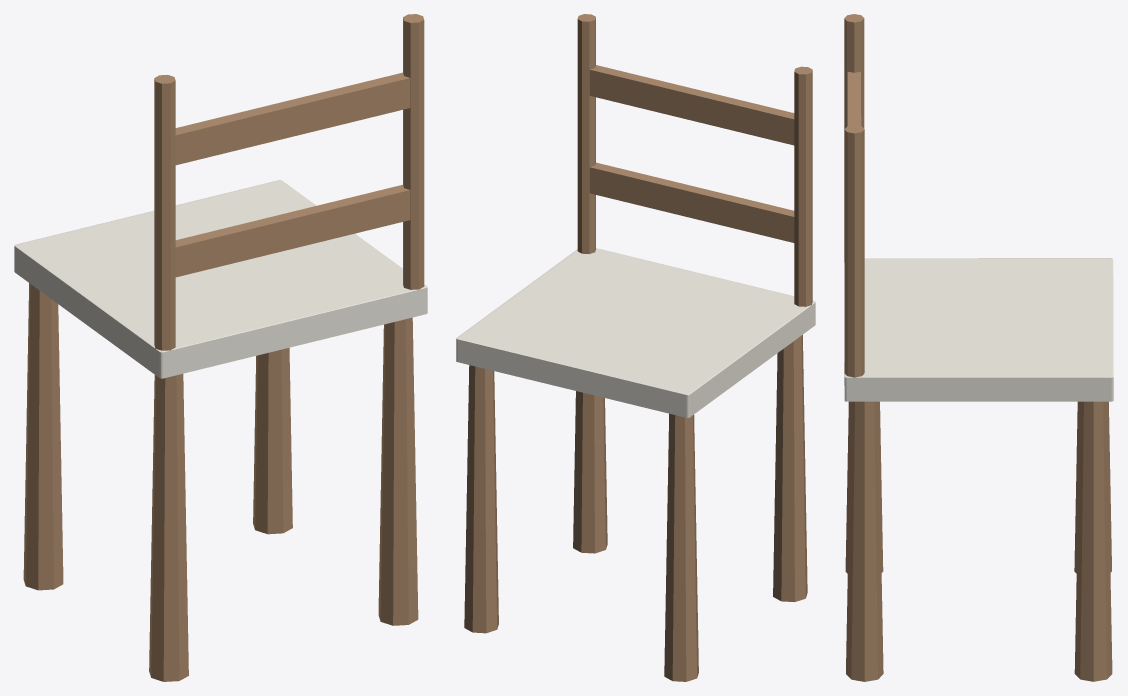
The model's file is DiningChair.fbx.
The picture shows the model from 3 angles, left to right: view 1: azimuth 30°, elevation 25°; view 2: azimuth 150°, elevation 25°; view 3: azimuth 270°, elevation 25°; orthographic projection. The views are drawn at different scales.
Parts seen in each view (by area): view 1: Seat, Leg4.001, Leg3.001, Leg2.001, Slat2, Slat1, Leg1.001, Post2, Post1; view 2: Seat, Leg2.001, Leg1.001, Leg4.001, Slat2, Slat1, Leg3.001, Post2, Post1; view 3: Seat, Leg1.001, Leg3.001, Post1, Post2, Leg4.001, Leg2.001, Slat2.
Part boxes in pixels (x1,y1,x2,y2): Seat: [14, 180, 427, 378]; Leg4.001: [149, 374, 188, 681]; Leg3.001: [378, 317, 418, 625]; Leg2.001: [23, 283, 63, 590]; Slat2: [175, 72, 410, 165]; Slat1: [175, 184, 410, 277]; Leg1.001: [253, 347, 292, 534]; Post2: [154, 75, 175, 350]; Post1: [403, 14, 424, 289]; Seat: [456, 248, 815, 417]; Leg2.001: [664, 413, 698, 681]; Leg1.001: [464, 365, 498, 633]; Leg4.001: [773, 335, 807, 601]; Slat2: [589, 65, 794, 145]; Slat1: [589, 162, 794, 242]; Leg3.001: [573, 391, 607, 553]; Post2: [794, 66, 812, 306]; Post1: [577, 14, 595, 253]; Seat: [844, 258, 1113, 401]; Leg1.001: [1074, 401, 1112, 681]; Leg3.001: [846, 401, 883, 681]; Post1: [844, 125, 864, 377]; Post2: [844, 14, 864, 262]; Leg4.001: [845, 401, 883, 573]; Leg2.001: [1074, 401, 1111, 573]; Slat2: [847, 71, 861, 125].
Size of what is drawn, in the model's own units: 42.05 by 90 by 40.05.
